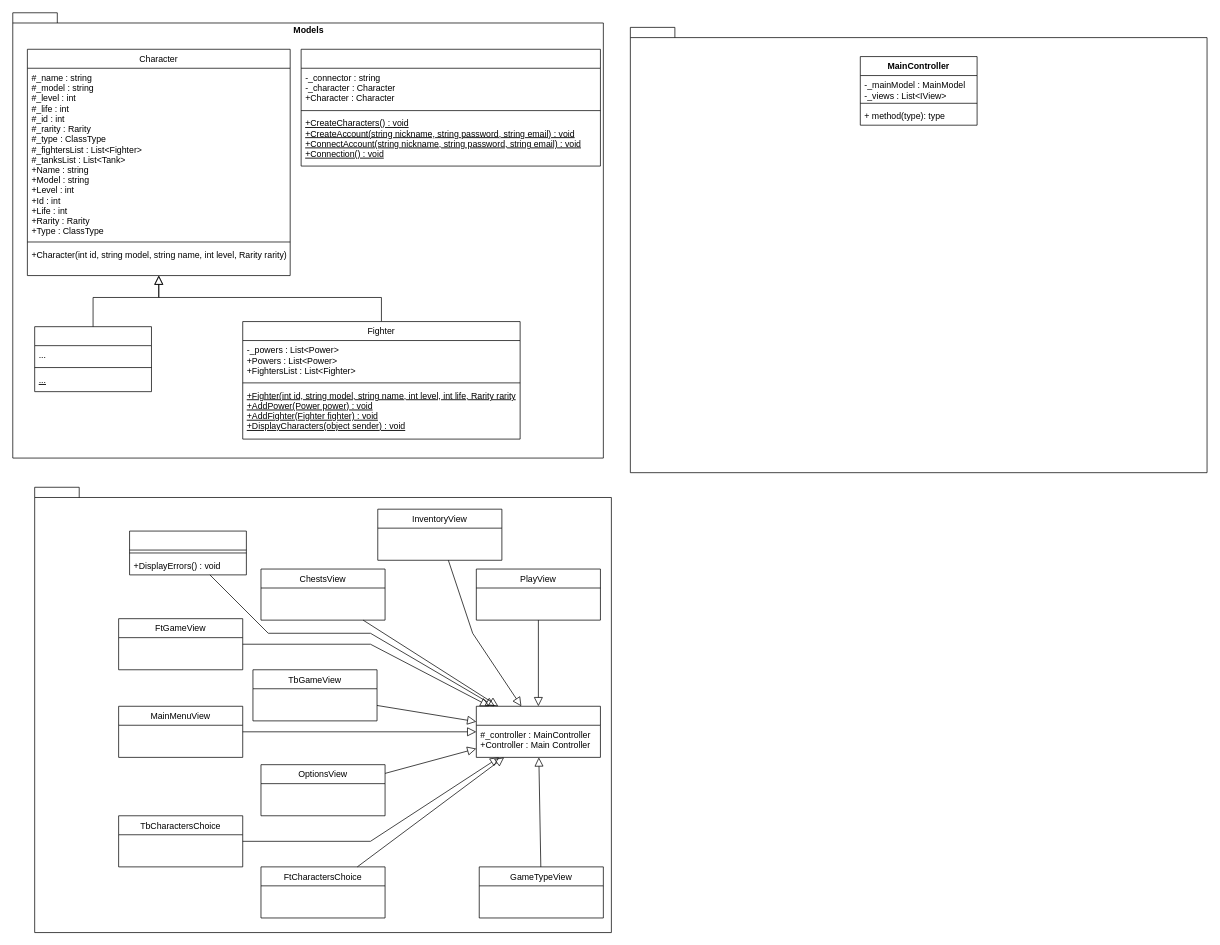
Image size: 1220x945. Some labels were removed from this diagram. Each missing label, with the box of its shape:
ConnexionInscriptionView: (129, 530, 246, 575)
Controllers: (630, 27, 1207, 473)
MainModel: (300, 49, 600, 166)
Tank: (34, 326, 151, 392)
View: (476, 706, 600, 757)
Views: (34, 487, 611, 933)
